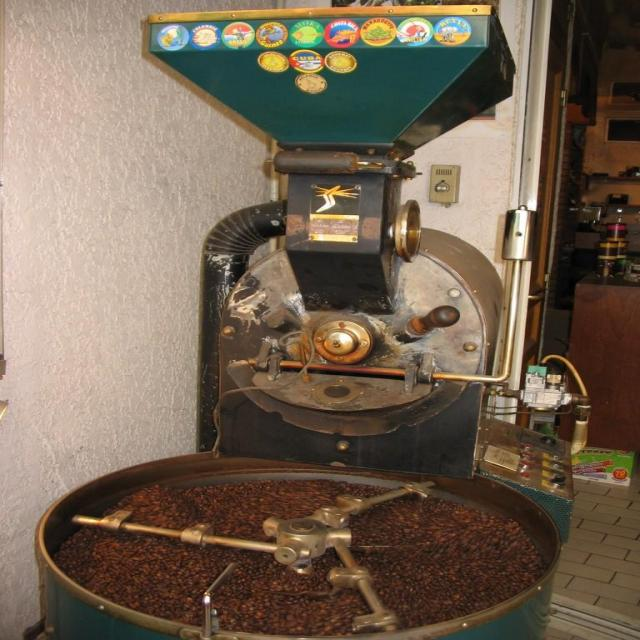Table: (526, 208, 632, 460)
